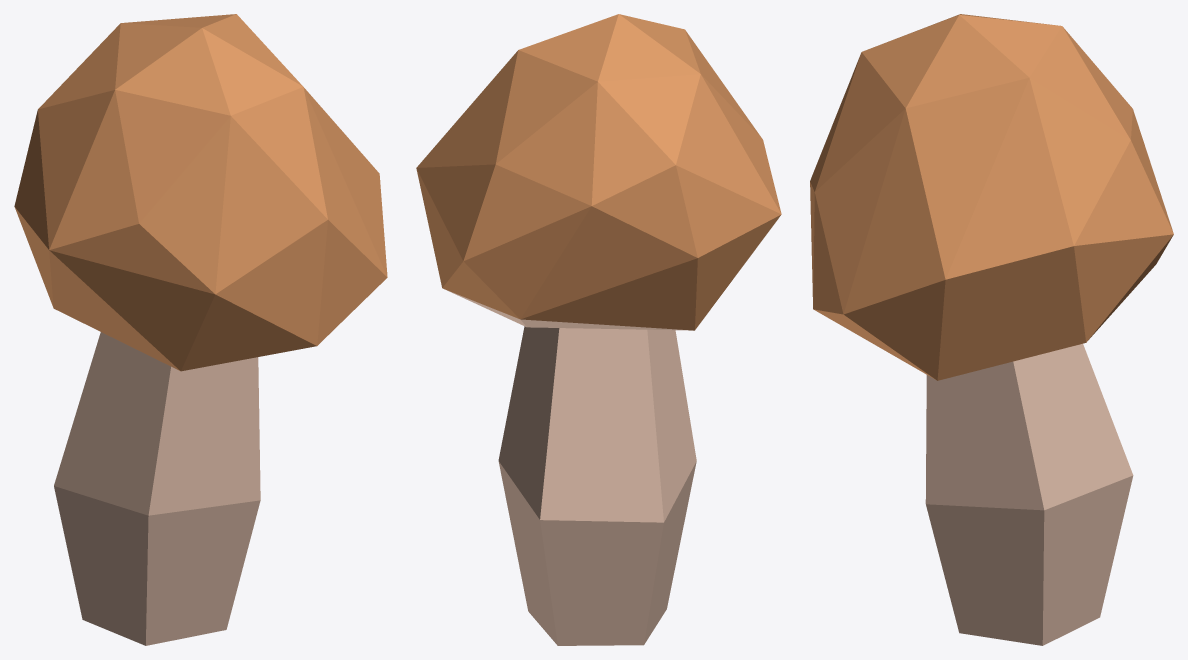
Rendered from Mushroom_f_04.fbx.
3 renders of one model, left to right at view 1: azimuth 30°, elevation 25°; view 2: azimuth 150°, elevation 25°; view 3: azimuth 270°, elevation 25°, orthographic. The views are drawn at different scales.
Visible parts, largest first — view 1: Mushroom_f_04; view 2: Mushroom_f_04; view 3: Mushroom_f_04.
Boxes of the visible parts, <box> form: Mushroom_f_04: <box>14,14,387,645</box>; Mushroom_f_04: <box>416,14,781,645</box>; Mushroom_f_04: <box>810,14,1173,645</box>.
Bounding box in the file's own units: 14.68 × 25.67 × 13.96.
